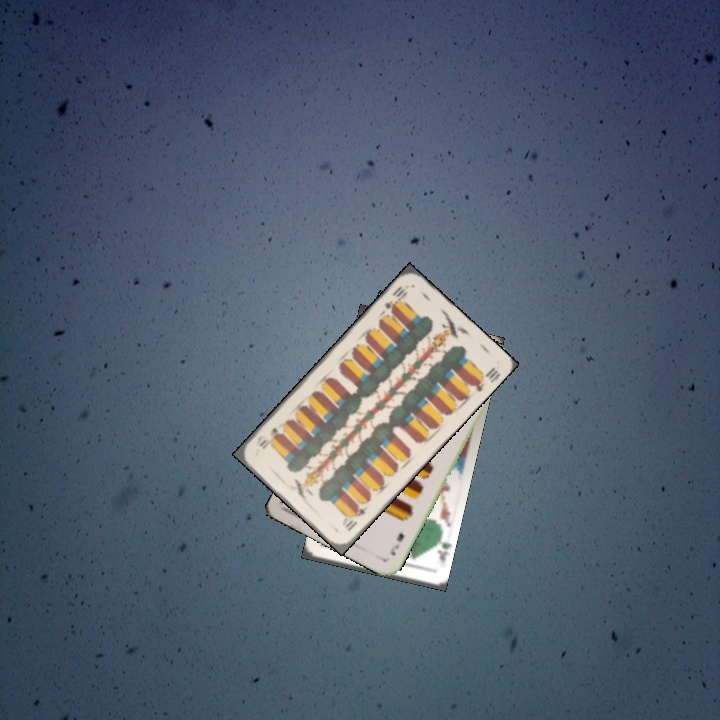E10: (380, 282, 410, 315), (340, 502, 370, 534)
E7: (386, 528, 407, 558)
GK: (431, 532, 452, 566)
